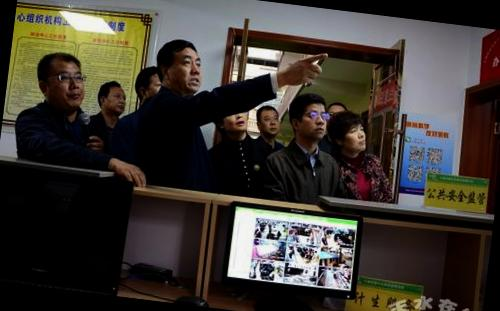no_helmet: (30, 46, 90, 113), (152, 32, 208, 97), (323, 108, 374, 158), (285, 90, 330, 144), (132, 62, 166, 108), (94, 76, 130, 119), (214, 100, 250, 138), (254, 99, 283, 140)
